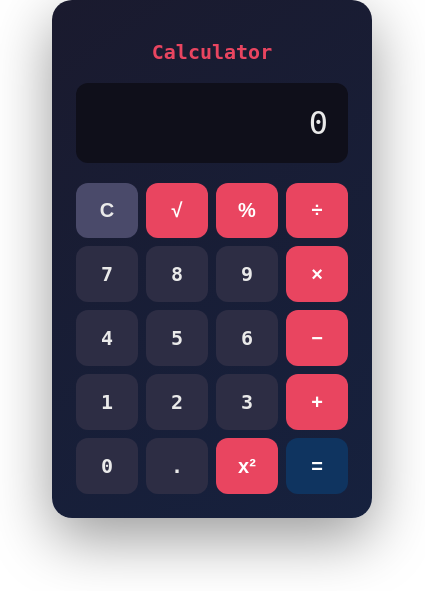
Calculator › displays digit when clicked
This screenshot has width=425, height=591.
Click the button "7" at (107, 274), box 76,246 -> 138,302
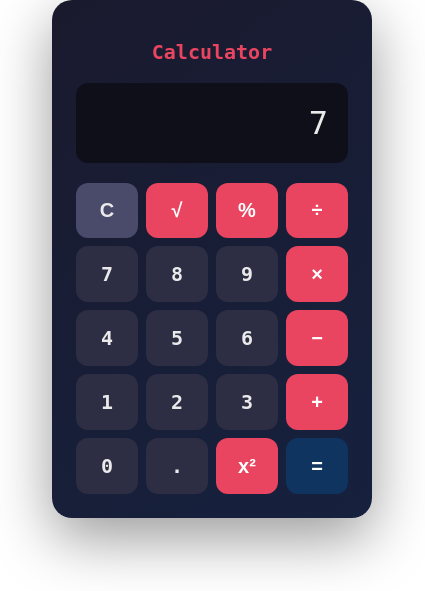
Expected: the element named "Display" reads "7", 309,104 -> 328,142
